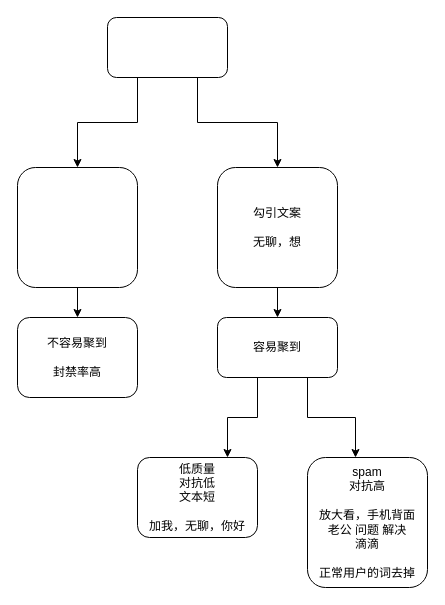
This 445x605 diagram has some shape labels left out. Each missing label, with the centre of its shape:
spam文案 异常分割 变体字符 字母 数字 谐音: [77,227]
高召回: [167,47]
